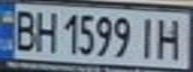1: (60, 10, 81, 55)
5: (75, 11, 96, 56)
9: (112, 14, 136, 58), (93, 12, 115, 57)
B: (9, 7, 39, 52)
H: (151, 15, 190, 61), (30, 8, 60, 54)
I: (133, 15, 160, 61)
